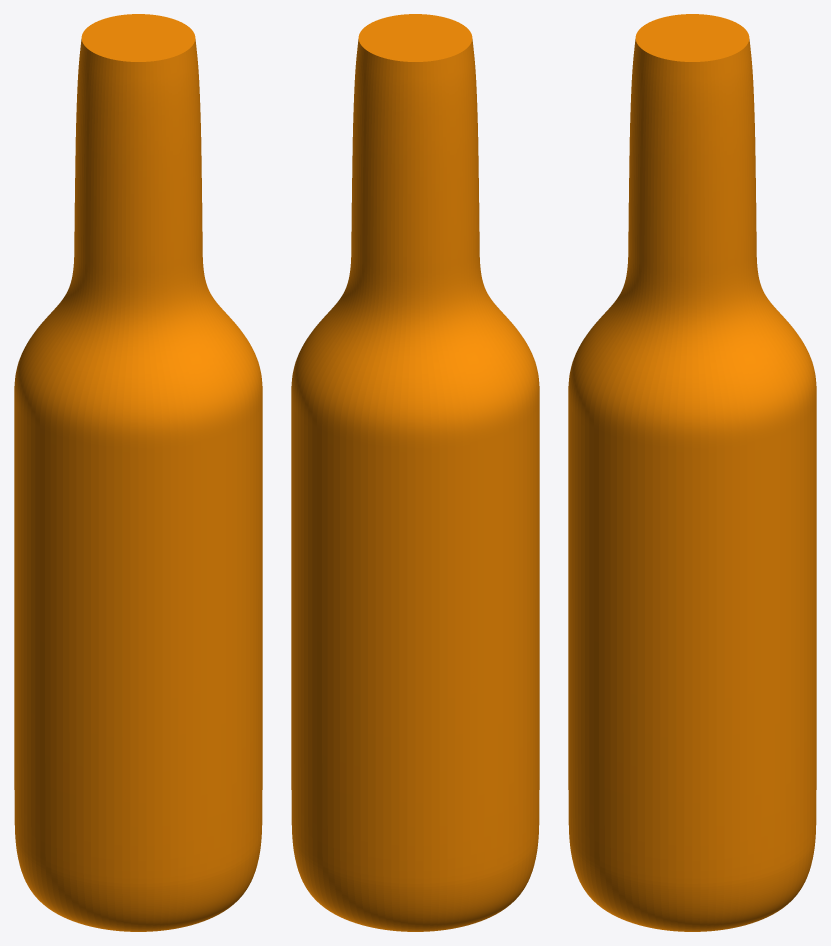
File: liquid.glb
3 views of the same model, side by side, from view 1: azimuth 30°, elevation 25°; view 2: azimuth 150°, elevation 25°; view 3: azimuth 270°, elevation 25° (orthographic).
Parts seen in each view (by area): view 1: liquid; view 2: liquid; view 3: liquid.
Part boxes in pixels (x1,y1,x2,y2): liquid: (14,14,262,931); liquid: (291,14,539,931); liquid: (568,14,816,931).
Bounding box in the file's own units: 1.66 × 6.31 × 1.66.
